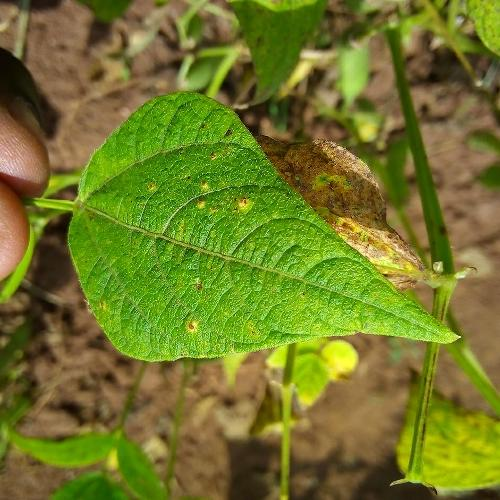hawar: (133, 131, 290, 249), (159, 242, 210, 344)
